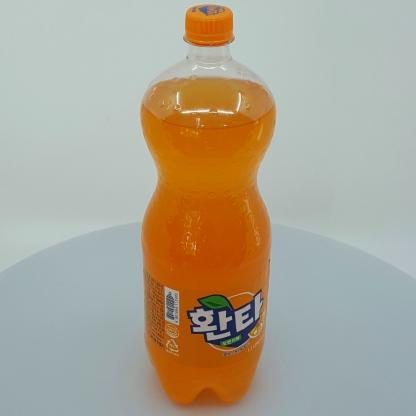-------1-5L: (140, 4, 276, 405)
